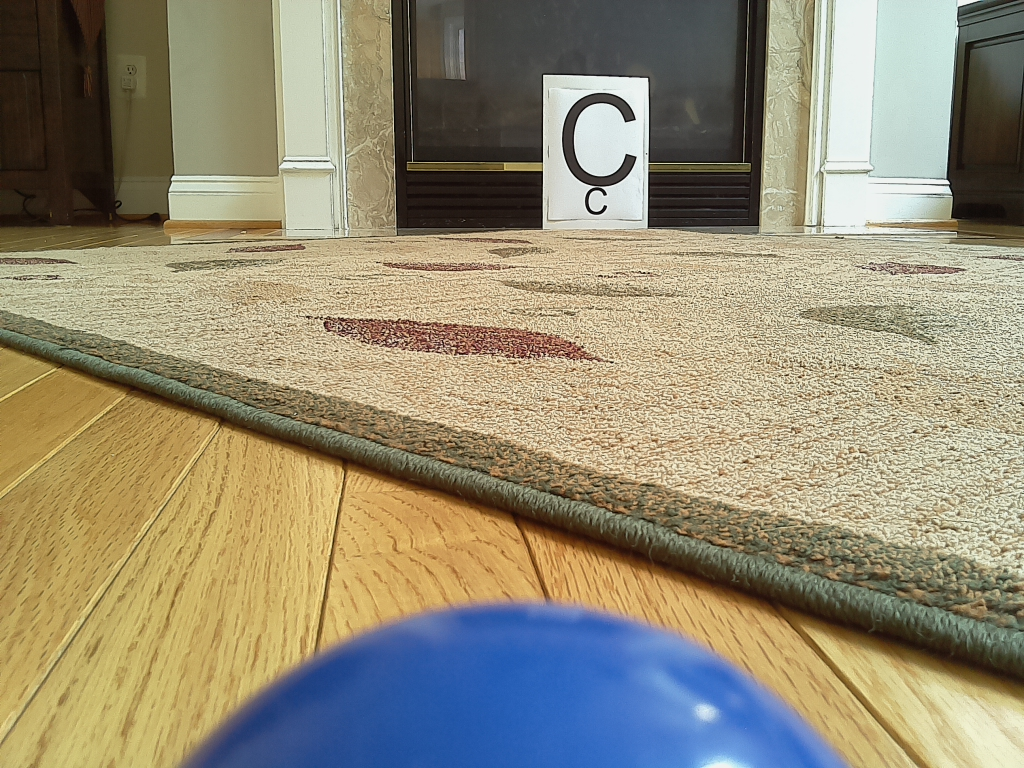letter: (562, 93, 635, 187)
